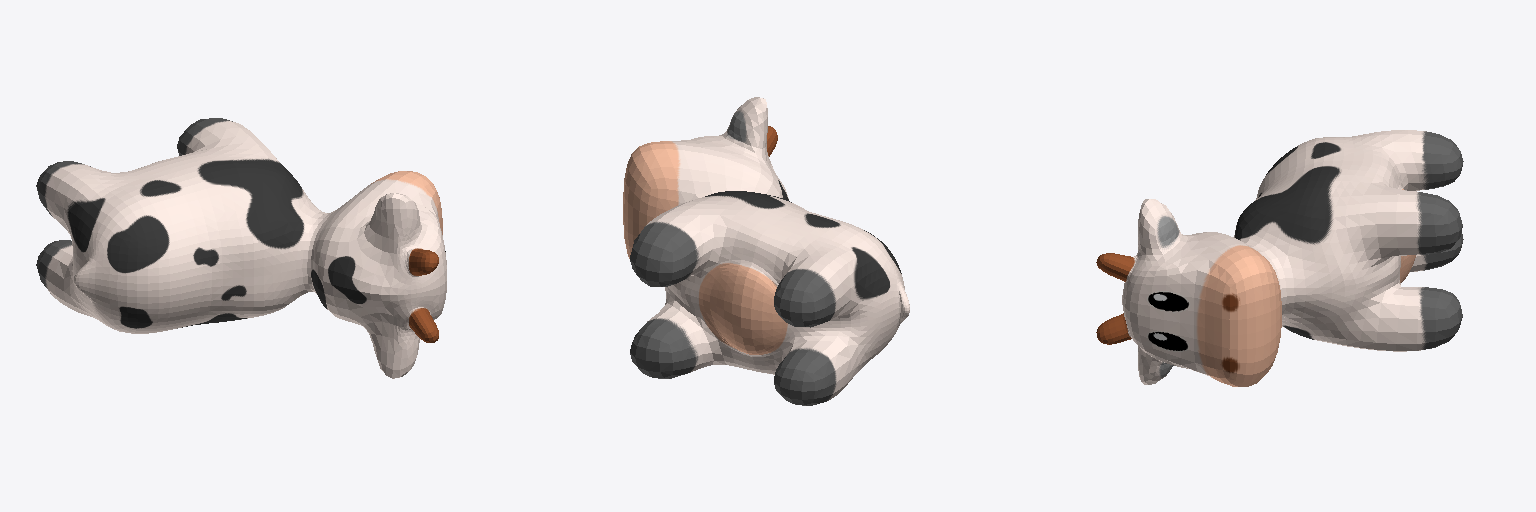
The picture shows the model from 3 angles: view 1: azimuth 30°, elevation 25°; view 2: azimuth 150°, elevation 25°; view 3: azimuth 270°, elevation 25°; orthographic projection.
Parts seen in each view (by area): view 1: spot_triangulated; view 2: spot_triangulated; view 3: spot_triangulated.
Boxes of the visible parts, <box> form: spot_triangulated: <box>36,118,446,378</box>; spot_triangulated: <box>623,97,909,405</box>; spot_triangulated: <box>1096,130,1463,386</box>.
Bounding box in the file's own units: 1.74 × 0.9549 × 1.71.
Materials: 1 (1 with a texture image).